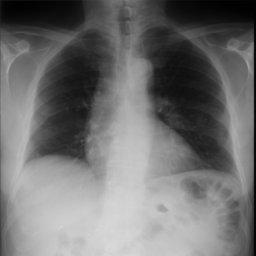leftlobe: (143, 27, 234, 172)
right lobe: (31, 29, 112, 158)
